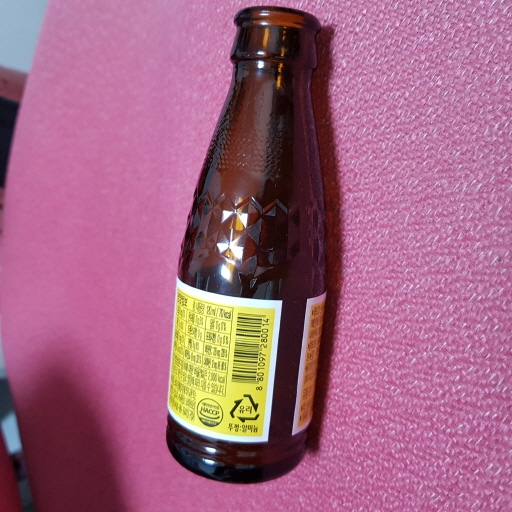Glass_3: (157, 10, 341, 483)
